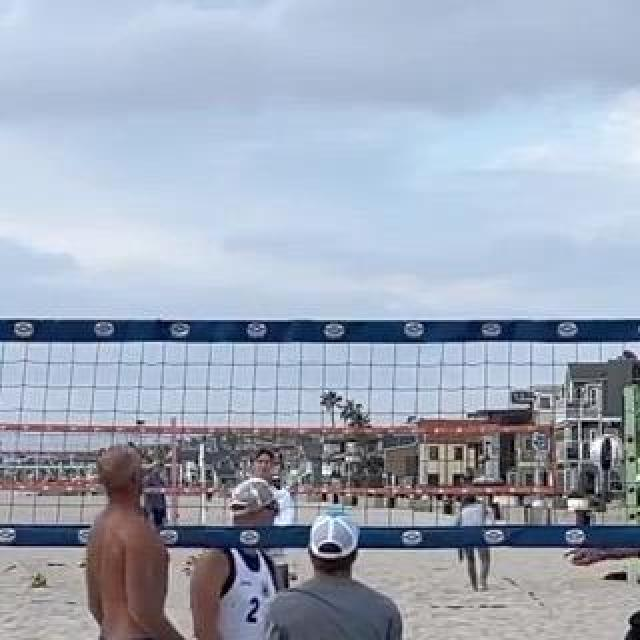volleyball: (33, 571, 47, 587)
